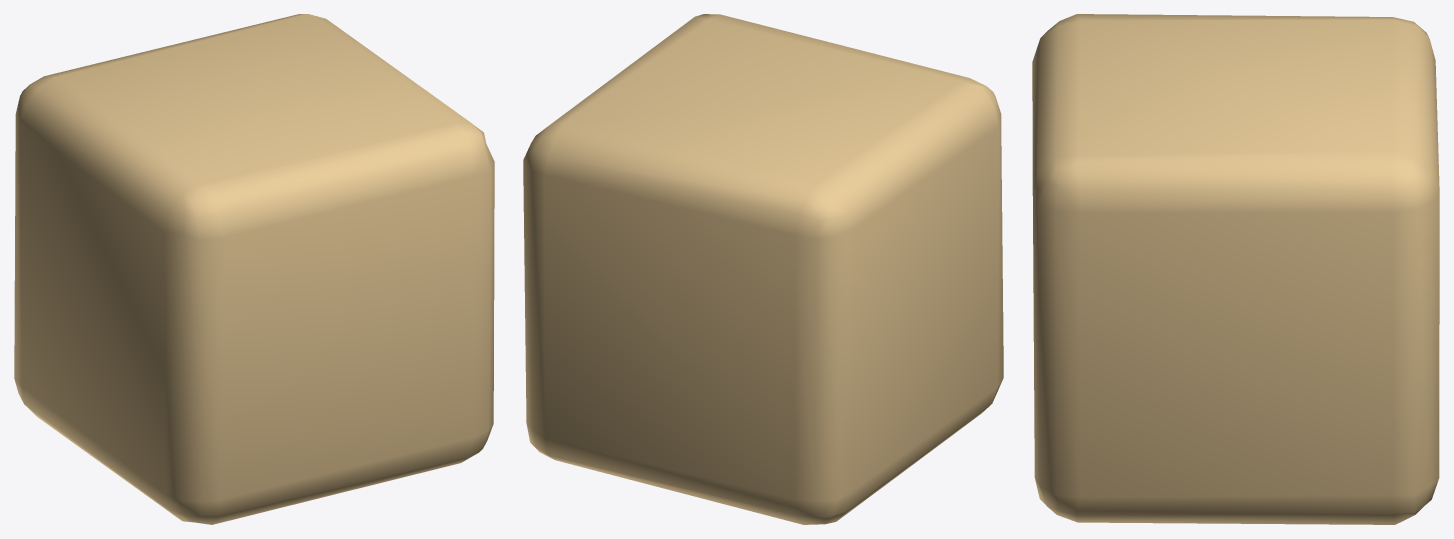
The model's file is sandstone_cell.glb.
The picture shows the model from 3 angles, left to right: view 1: azimuth 30°, elevation 25°; view 2: azimuth 150°, elevation 25°; view 3: azimuth 270°, elevation 25°; orthographic projection. The views are drawn at different scales.
Visible parts, largest first — view 1: SandstoneCell; view 2: SandstoneCell; view 3: SandstoneCell.
Part boxes in pixels (x1,y1,x2,y2): SandstoneCell: [14, 14, 494, 524]; SandstoneCell: [523, 14, 1003, 524]; SandstoneCell: [1032, 14, 1439, 524].
Size of the model in its own units: 0.9991 by 1 by 0.9988.
